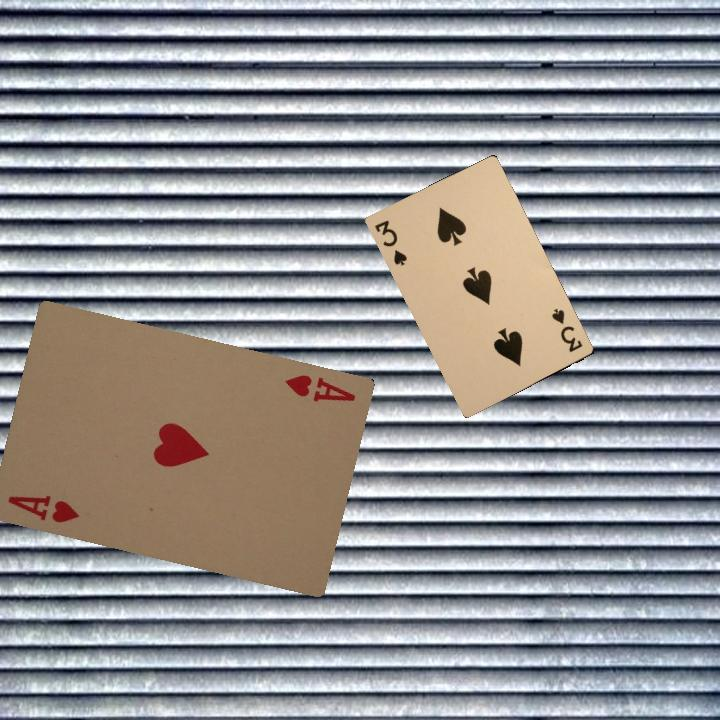3s: (370, 216, 410, 268), (548, 304, 585, 355)
Ah: (281, 370, 359, 405), (3, 491, 82, 525)
